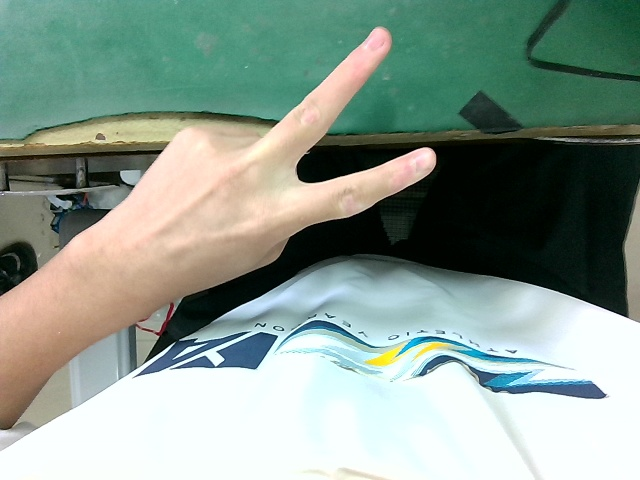scissor: (84, 18, 443, 327)
